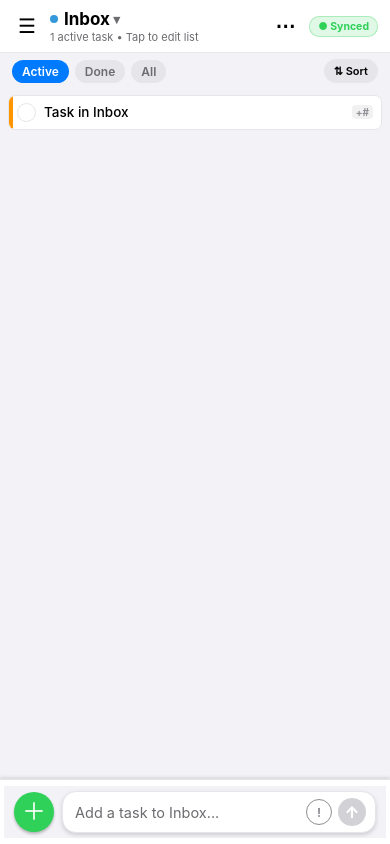
it: ProjectTasksScreen › My Open Tasks View › opens project options action sheet and editor modal when header options button is pressed
This screenshot has width=390, height=844.
Click the element with test id "project-header-options-btn". click: (285, 26)
box: x1=275 y1=14 x2=295 y2=38
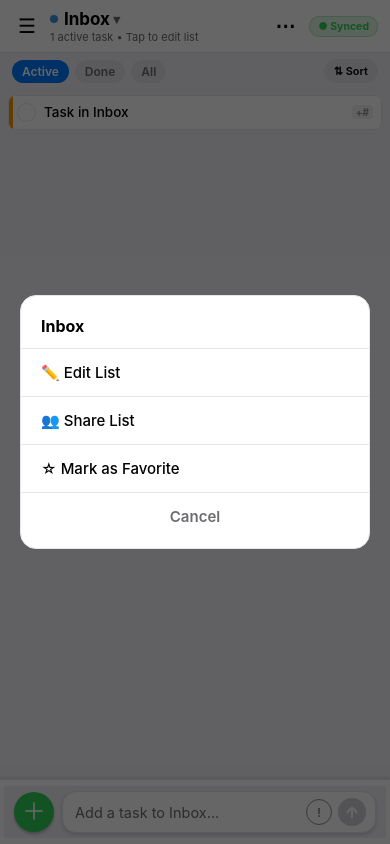
Expected: the element with test id "project-option-edit" is shown
Click the element with test id "project-option-edit". click: (195, 373)
box: x1=21 y1=349 x2=369 y2=397
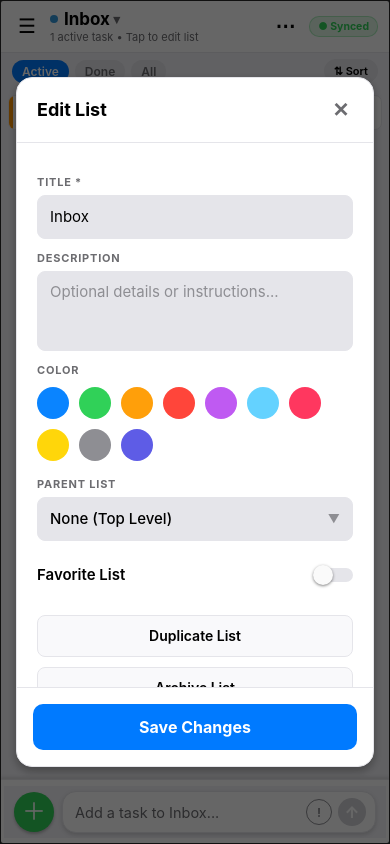
Expected: the field with test id "project-modal-title-input" is shown, x1=37 y1=195 x2=353 y2=239
Expected: the element with test id "project-modal-save-btn" is shown, x1=33 y1=704 x2=357 y2=750
